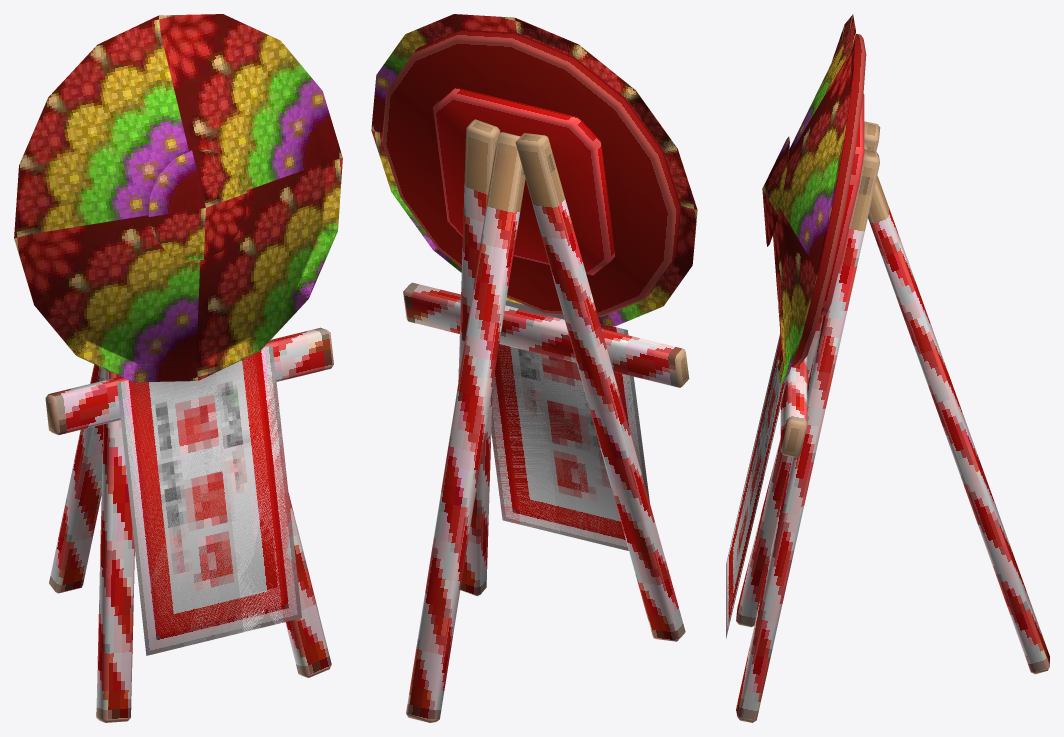
The model's file is int_oth_wreath.dae.
3 renders of one model, left to right at view 1: azimuth 30°, elevation 25°; view 2: azimuth 150°, elevation 25°; view 3: azimuth 270°, elevation 25°, orthographic.
Parts seen in each view (by area): view 1: int_oth_wreath; view 2: int_oth_wreath; view 3: int_oth_wreath.
Part boxes in pixels (x1,y1,x2,y2): int_oth_wreath: (14, 14, 342, 722); int_oth_wreath: (371, 14, 697, 722); int_oth_wreath: (726, 14, 1049, 722).
Size of the model in its own units: 32 by 59.89 by 27.47.
Materials: 2 (2 with a texture image).
